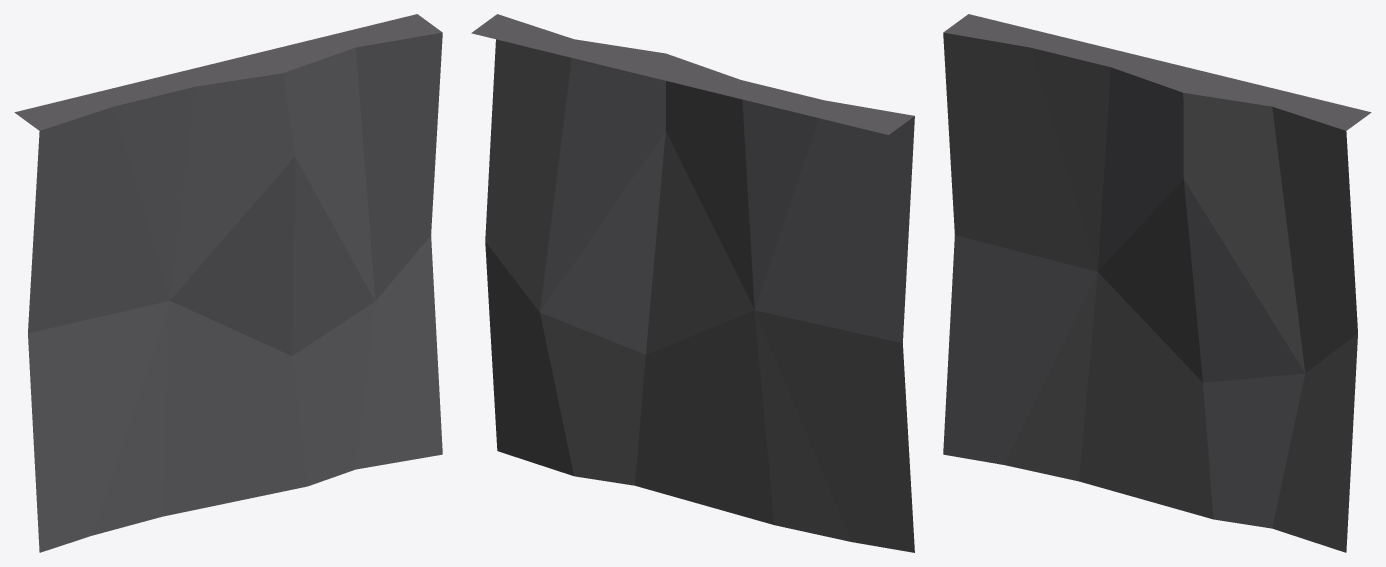
The model's file is mesh_nature_cliff_bottom_02_02.fbx.
The picture shows the model from 3 angles, left to right: view 1: azimuth 30°, elevation 25°; view 2: azimuth 150°, elevation 25°; view 3: azimuth 330°, elevation 25°; orthographic projection. The views are drawn at different scales.
Visible parts, largest first — view 1: mesh_nature_cliff_bottom_02_02; view 2: mesh_nature_cliff_bottom_02_02; view 3: mesh_nature_cliff_bottom_02_02.
Boxes of the visible parts, x1,y1,x2,y2 form: mesh_nature_cliff_bottom_02_02: [14, 14, 442, 552]; mesh_nature_cliff_bottom_02_02: [471, 14, 914, 552]; mesh_nature_cliff_bottom_02_02: [943, 14, 1371, 552].
Bounding box in the file's own units: 200 × 200 × 28.25.
